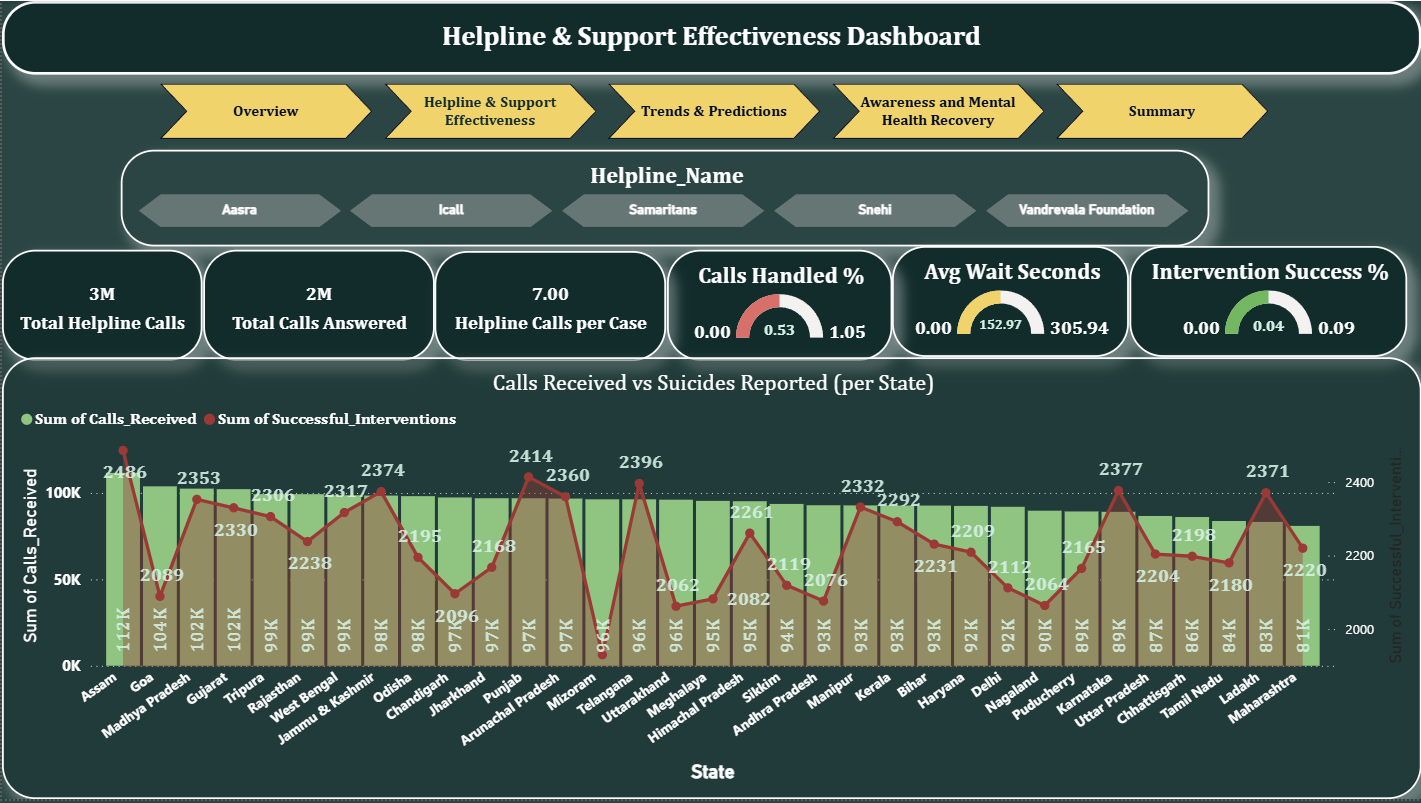

Layout of this report page (visuals, bound fields, positions):
{"tool":"powerbi","page":{"name":"Helpline & Support Effectiveness","canvas":[1280,720],"ordinal":1},"visuals":[{"type":"advancedSlicerVisual","fields":{"Values":["Helpline_Usage.Helpline_Name"]},"box":[107.6,134.5,981.9,86.8],"z":0},{"type":"textbox","box":[0,0,1280.3,66],"z":1000},{"type":"card","fields":{"Values":["Helpline_Usage.Total Helpline Calls"]},"box":[0,223.8,181,100.3],"z":2000},{"type":"card","fields":{"Values":["Helpline_Usage.Total Calls Answered"]},"box":[181,223.8,209.1,100.3],"z":5000},{"type":"gauge","fields":{"Y":["Helpline_Usage.Avg Response Time"]},"box":[802.2,221.3,214,100.3],"z":6000},{"type":"gauge","fields":{"Y":["Helpline_Usage.Intervention Success %"]},"box":[1016.2,221.3,250.7,100.3],"z":7000},{"type":"gauge","fields":{"Y":["Helpline_Usage.Calls Handled %"]},"box":[599.2,223.8,203,100.3],"z":8000},{"type":"card","fields":{"Values":["Helpline_Usage.Helpline Calls per Case"]},"box":[390.1,225,209.1,99],"z":9000},{"type":"lineStackedColumnComboChart","title":"Calls Received vs Suicides Reported (per State)","fields":{"Category":["Helpline_Usage.State"],"Y":["Sum(Helpline_Usage.Calls_Received)"],"Y2":["Sum(Helpline_Usage.Successful_Interventions)"]},"box":[0,321.6,1280.3,398.6],"z":10000},{"type":"pageNavigator","box":[141.8,74.6,1000.3,50.1],"z":11000}]}

Visuals, with their boxes in screenshot pixels (x1, y1, x2, y2), scaled from the page's 1280x720 canvas onto the 1421x803 screenshot:
advancedSlicerVisual - Helpline_Usage.Helpline_Name: x1=119, y1=150, x2=1210, y2=247
textbox: x1=0, y1=0, x2=1420, y2=74
card - Helpline_Usage.Total Helpline Calls: x1=0, y1=250, x2=201, y2=361
card - Helpline_Usage.Total Calls Answered: x1=201, y1=250, x2=433, y2=361
gauge - Helpline_Usage.Avg Response Time: x1=891, y1=247, x2=1128, y2=359
gauge - Helpline_Usage.Intervention Success %: x1=1128, y1=247, x2=1406, y2=359
gauge - Helpline_Usage.Calls Handled %: x1=665, y1=250, x2=891, y2=361
card - Helpline_Usage.Helpline Calls per Case: x1=433, y1=251, x2=665, y2=361
"Calls Received vs Suicides Reported (per State)" lineStackedColumnComboChart: x1=0, y1=359, x2=1420, y2=802
pageNavigator: x1=157, y1=83, x2=1268, y2=139
